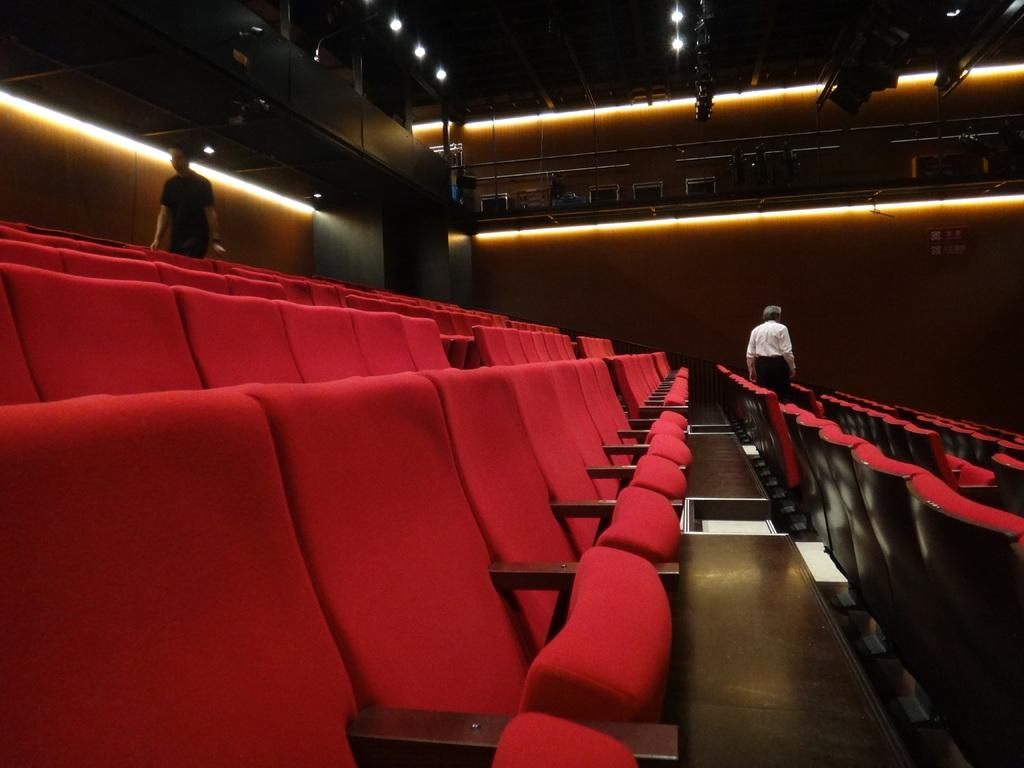Chair: (1, 387, 685, 767), (0, 216, 689, 415), (700, 360, 1023, 767)
